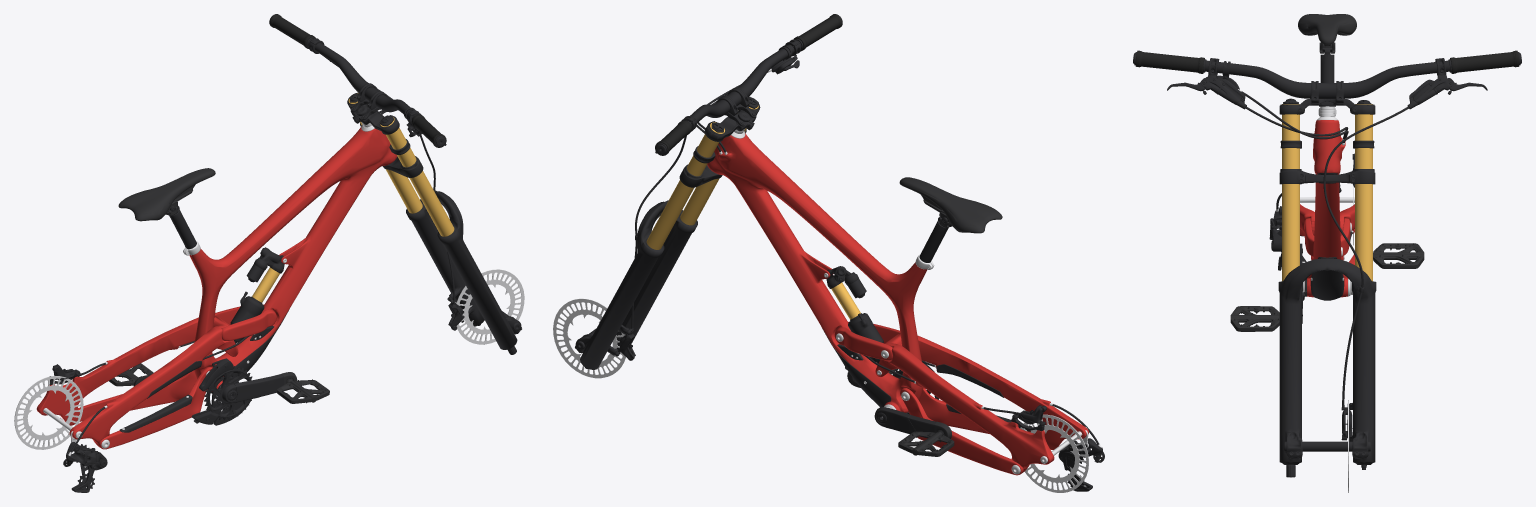
Rendered from tues.glb.
3 views of the same model, side by side, from view 1: azimuth 30°, elevation 25°; view 2: azimuth 150°, elevation 25°; view 3: azimuth 270°, elevation 25° (orthographic). The views are drawn at different scales.
Visible parts, largest first — view 1: frame, seatstay, steer, fork_lower, crank, swing, wheel_rear, wheel_front, rocker, shock_shaft, shock_body; view 2: frame, seatstay, steer, fork_lower, swing, crank, wheel_front, wheel_rear, rocker, shock_shaft, shock_body; view 3: steer, fork_lower, frame, crank, seatstay, rocker.
Part boxes in pixels (bbox=[...]): frame: bbox=[118, 122, 397, 425]; seatstay: bbox=[36, 316, 238, 492]; steer: bbox=[269, 14, 455, 300]; fork_lower: bbox=[406, 189, 521, 354]; crank: bbox=[109, 363, 329, 420]; swing: bbox=[78, 367, 212, 449]; wheel_rear: bbox=[14, 376, 83, 449]; wheel_front: bbox=[456, 269, 524, 344]; rocker: bbox=[214, 304, 276, 340]; shock_shaft: bbox=[230, 267, 279, 343]; shock_body: bbox=[246, 247, 284, 282]; frame: bbox=[707, 128, 1002, 414]; seatstay: bbox=[875, 334, 1104, 491]; steer: bbox=[631, 14, 842, 328]; fork_lower: bbox=[575, 200, 697, 369]; swing: bbox=[900, 388, 1058, 475]; crank: bbox=[845, 362, 954, 456]; wheel_front: bbox=[553, 298, 625, 378]; wheel_rear: bbox=[1020, 414, 1088, 492]; rocker: bbox=[834, 322, 900, 375]; shock_shaft: bbox=[831, 282, 883, 363]; shock_body: bbox=[826, 266, 866, 298]; steer: bbox=[1133, 50, 1521, 405]; fork_lower: bbox=[1278, 258, 1376, 477]; frame: bbox=[1298, 14, 1356, 323]; crank: bbox=[1230, 243, 1424, 331]; seatstay: bbox=[1269, 153, 1354, 270]; rocker: bbox=[1304, 218, 1350, 259].
Bounding box in the file's own units: 1.47 × 0.9227 × 0.8474.
